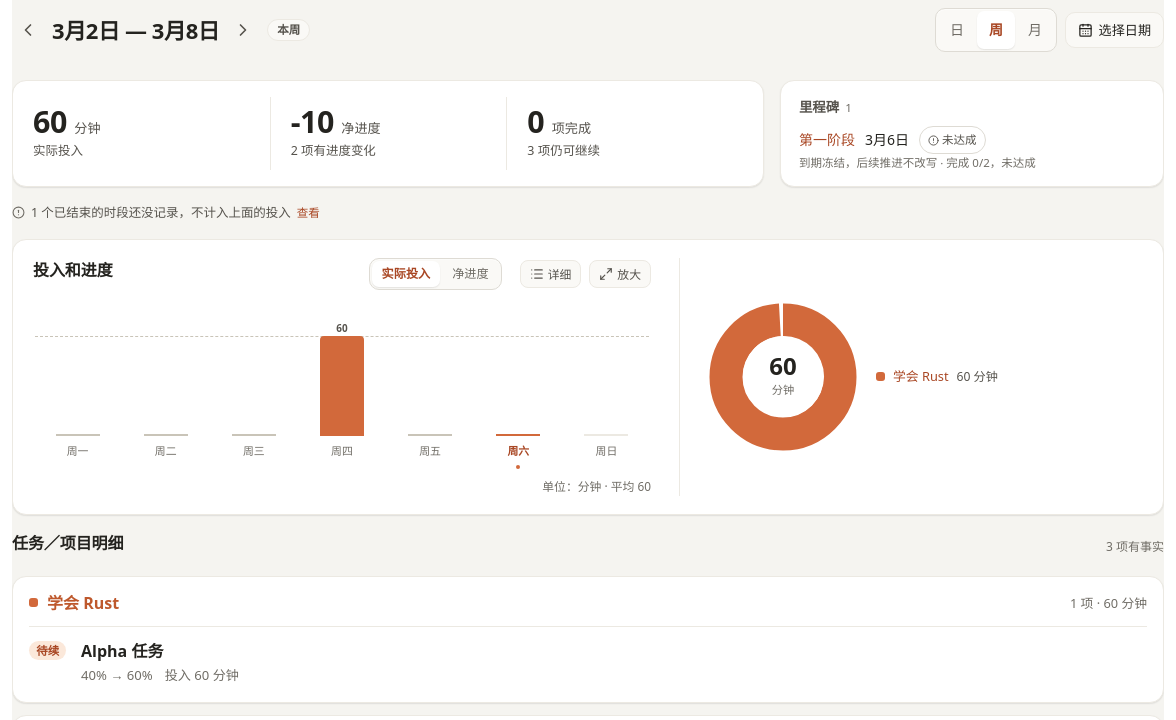
Test: review page › draws the dashed reference line at the average of days that have values
Click the button "净进度": (470, 274) 442,261 -> 499,287
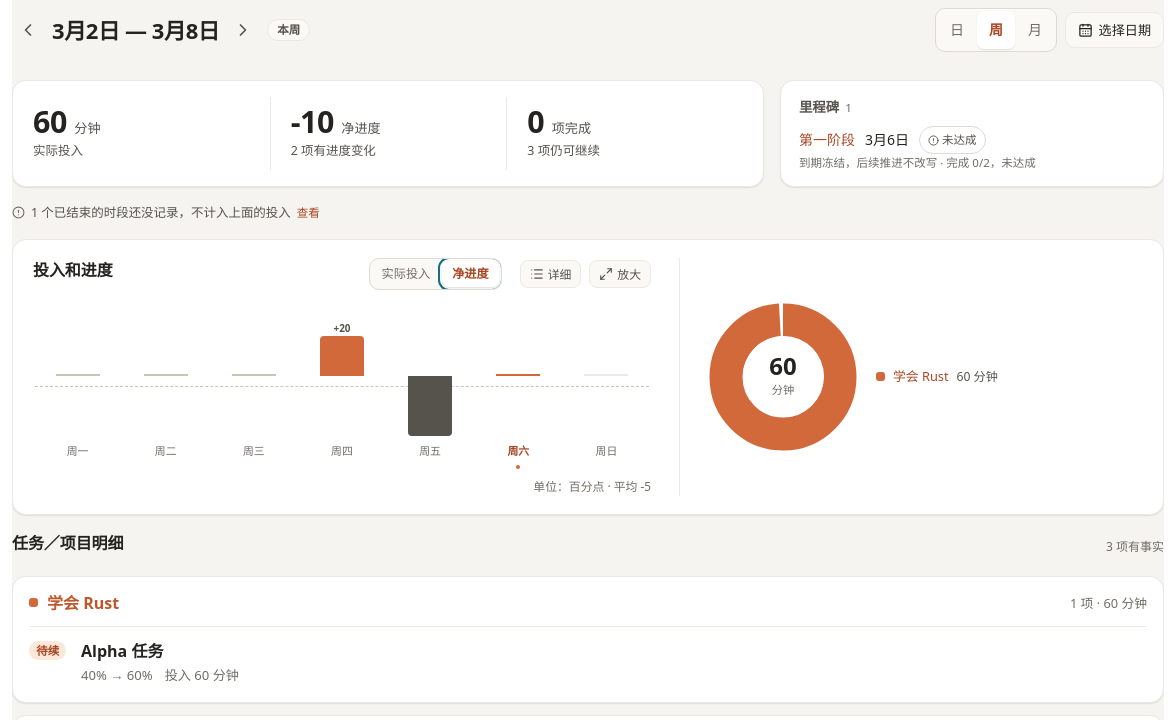
Expected: the number of elements with class "review-chart-bar" is 1, 320,336 -> 364,376
Now the text with class "review-chart-unit" shows "平均 -5", box 533,478 -> 651,494
Note: 投入只有一天有记录：平均就是那天的 60 分钟，线落在柱顶（0%）。
Click the button "实际投入": (406, 274) 372,261 -> 440,287
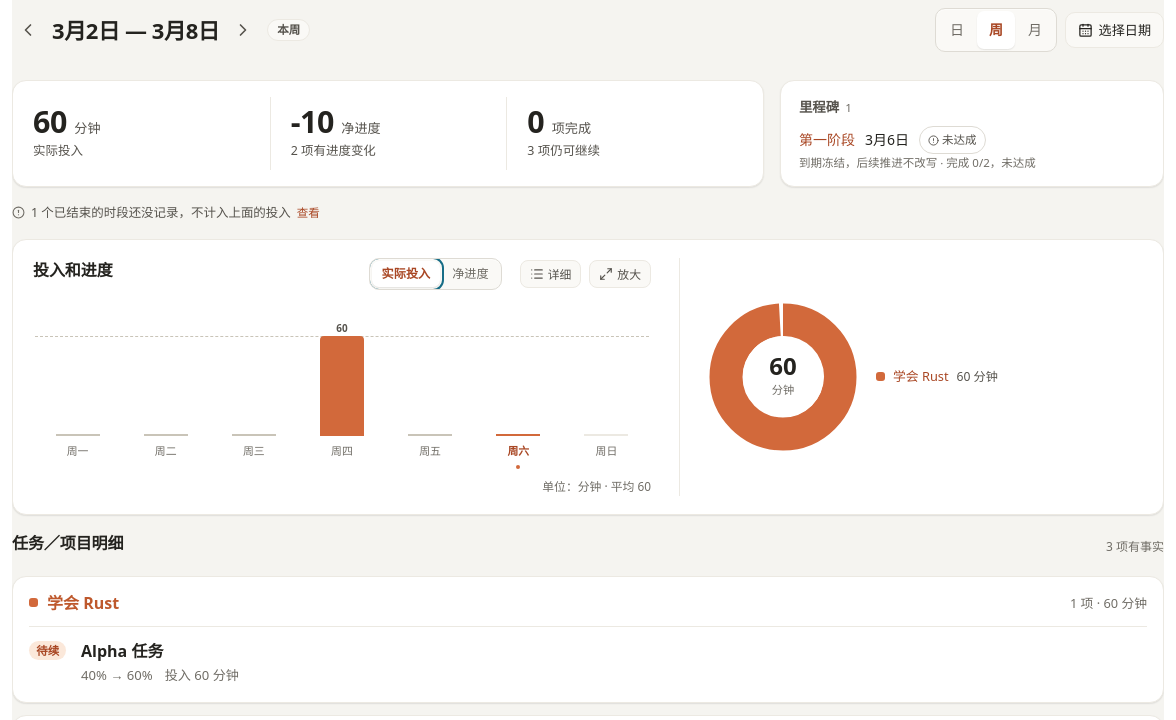
Now the text with class "review-chart-unit" shows "平均 60", box 542,478 -> 651,494
